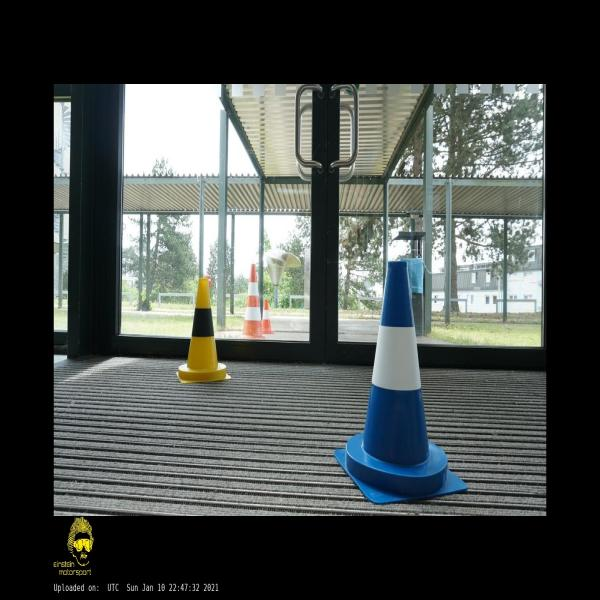blue_cone: (334, 262, 468, 502)
large_orange_cone: (241, 263, 263, 340)
orange_cone: (261, 300, 273, 334)
yellow_cone: (176, 278, 231, 383)
